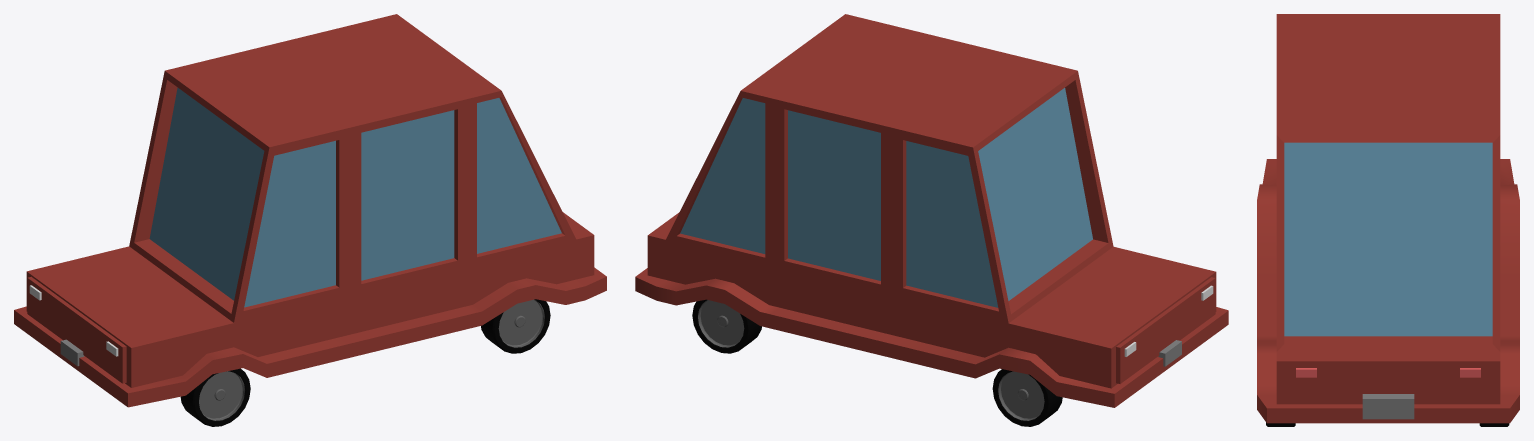
File: ToyCarGeo.fbx
The picture shows the model from 3 angles, left to right: view 1: azimuth 30°, elevation 25°; view 2: azimuth 150°, elevation 25°; view 3: azimuth 270°, elevation 25°; orthographic projection. The views are drawn at different scales.
Parts seen in each view (by area): view 1: ToyCarGeo; view 2: ToyCarGeo; view 3: ToyCarGeo.
Boxes of the visible parts, box(x1,y1,x2,y2) form: ToyCarGeo: box(14, 14, 606, 426); ToyCarGeo: box(635, 14, 1228, 426); ToyCarGeo: box(1257, 14, 1519, 426).
Bounding box in the file's own units: 59.12 × 30.84 × 26.15.
